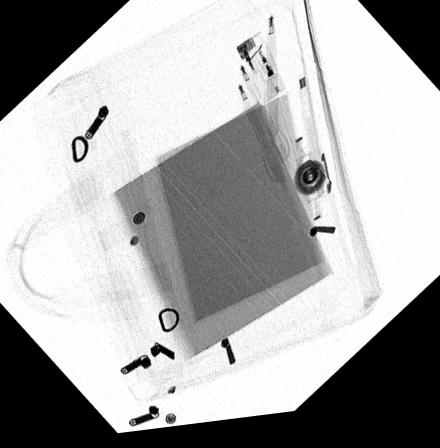Lighter: (235, 37, 286, 111)
